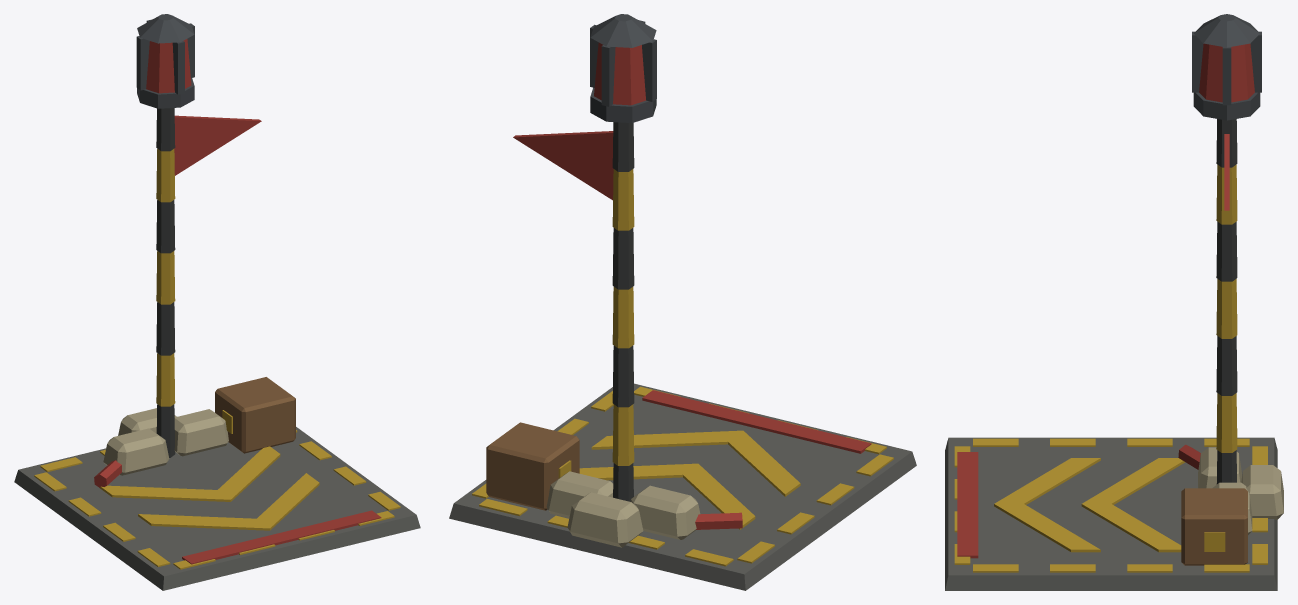
File: exit_marker.glb
3 renders of one model, left to right at view 1: azimuth 30°, elevation 25°; view 2: azimuth 150°, elevation 25°; view 3: azimuth 270°, elevation 25°, orthographic. The views are drawn at different scales.
Visible parts, largest first — view 1: exit_marker_mesh; view 2: exit_marker_mesh; view 3: exit_marker_mesh.
Boxes of the visible parts, x1,y1,x2,y2 form: exit_marker_mesh: [14, 14, 420, 590]; exit_marker_mesh: [449, 14, 916, 590]; exit_marker_mesh: [945, 14, 1283, 590].
Bounding box in the file's own units: 1.9 × 3.17 × 1.94.
